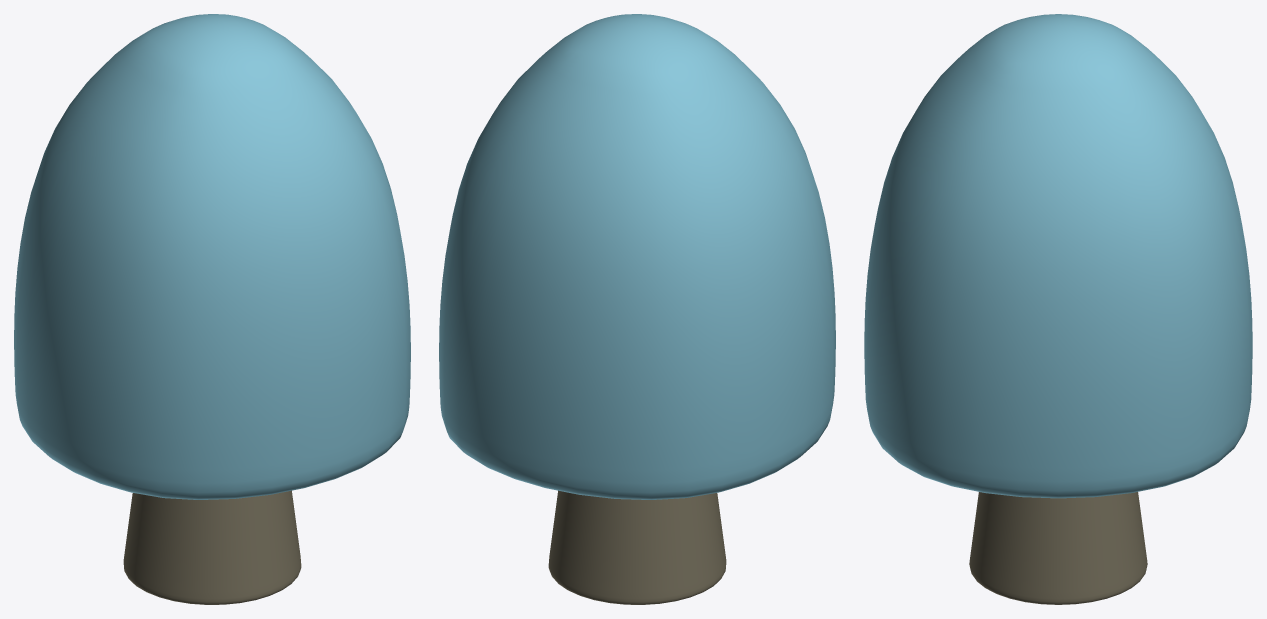
File: SM_20005Arvore2.fbx
3 renders of one model, left to right at view 1: azimuth 30°, elevation 25°; view 2: azimuth 150°, elevation 25°; view 3: azimuth 270°, elevation 25°, orthographic.
Visible parts, largest first — view 1: SM_20005Arvore2_geo_2, SM_20005Arvore2_geo_1; view 2: SM_20005Arvore2_geo_2, SM_20005Arvore2_geo_1; view 3: SM_20005Arvore2_geo_2, SM_20005Arvore2_geo_1.
Boxes of the visible parts, bbox=[...] form: SM_20005Arvore2_geo_2: bbox=[14, 14, 410, 499]; SM_20005Arvore2_geo_1: bbox=[123, 490, 301, 604]; SM_20005Arvore2_geo_2: bbox=[439, 14, 835, 499]; SM_20005Arvore2_geo_1: bbox=[548, 490, 726, 604]; SM_20005Arvore2_geo_2: bbox=[864, 14, 1252, 498]; SM_20005Arvore2_geo_1: bbox=[969, 492, 1147, 604].
Bounding box in the file's own units: 115 × 177 × 115.
